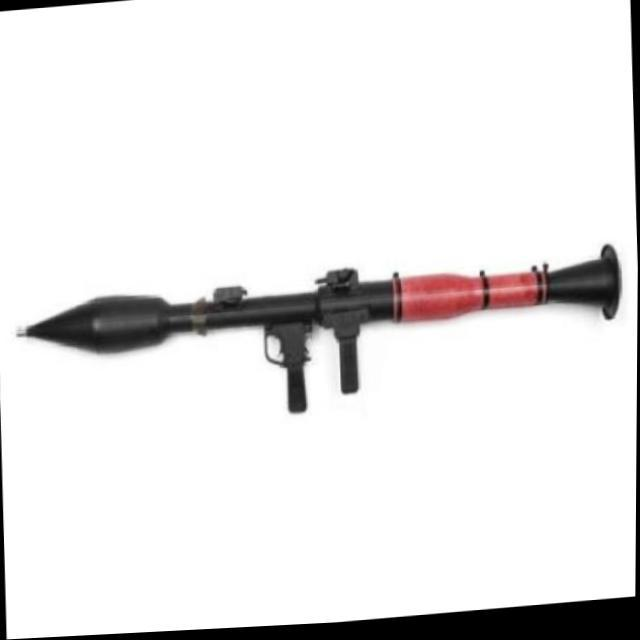weapon: (12, 245, 624, 438)
